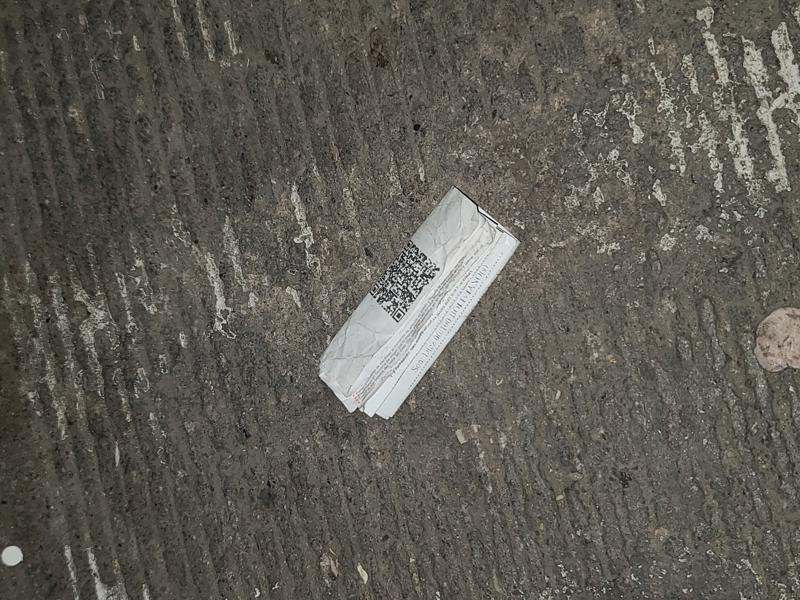papel: (320, 190, 521, 422)
